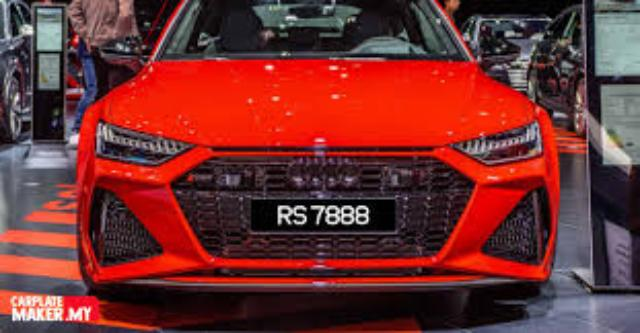License_Plate: (249, 197, 399, 237)
car: (78, 5, 559, 295)
